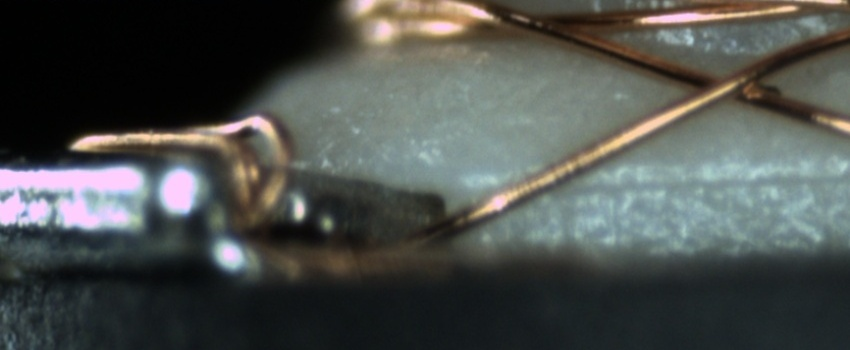CL: (666, 58, 789, 111)
DL: (547, 150, 849, 218)
TE: (64, 96, 302, 236)
